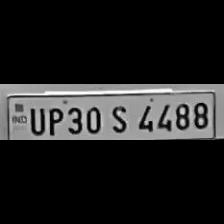0: (82, 104, 104, 134)
3: (65, 104, 83, 134)
4: (133, 102, 155, 132), (152, 100, 172, 132)
8: (190, 98, 210, 130), (171, 99, 189, 130)
P: (44, 104, 64, 136)
S: (106, 102, 130, 134)
U: (27, 104, 46, 136)
